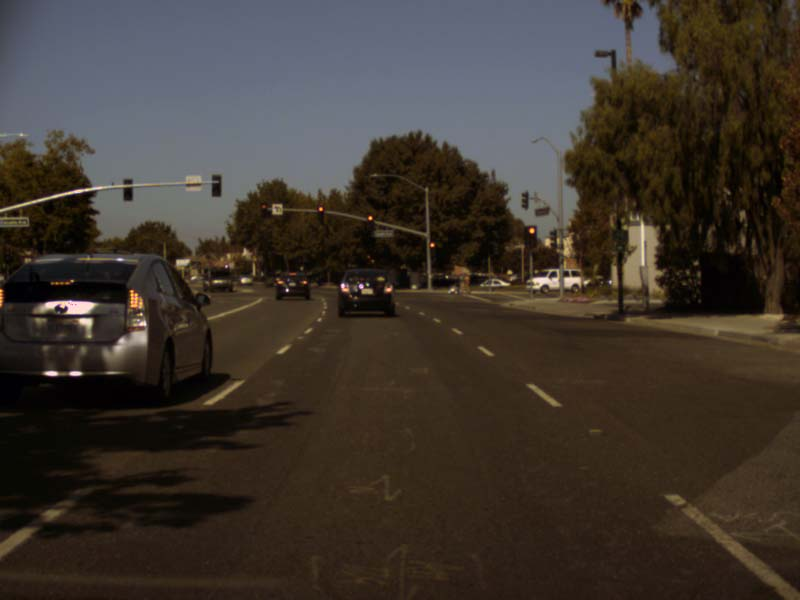Red: (527, 225, 536, 246), (318, 205, 324, 222), (260, 203, 267, 217), (430, 241, 436, 256), (367, 215, 373, 228)
